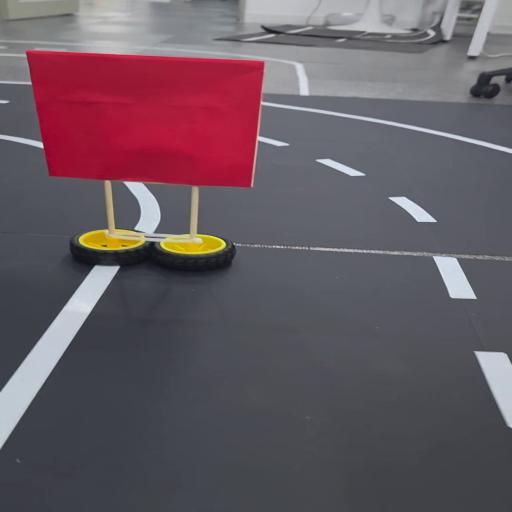Sign_A: (22, 50, 297, 269)
